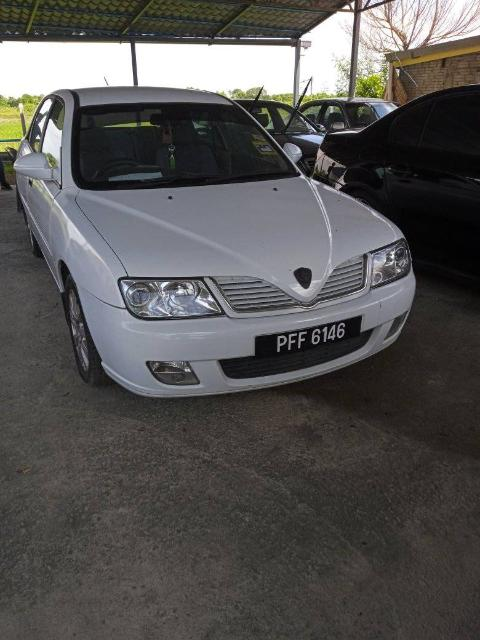License_Plate: (258, 321, 379, 356)
car: (15, 83, 418, 403)
